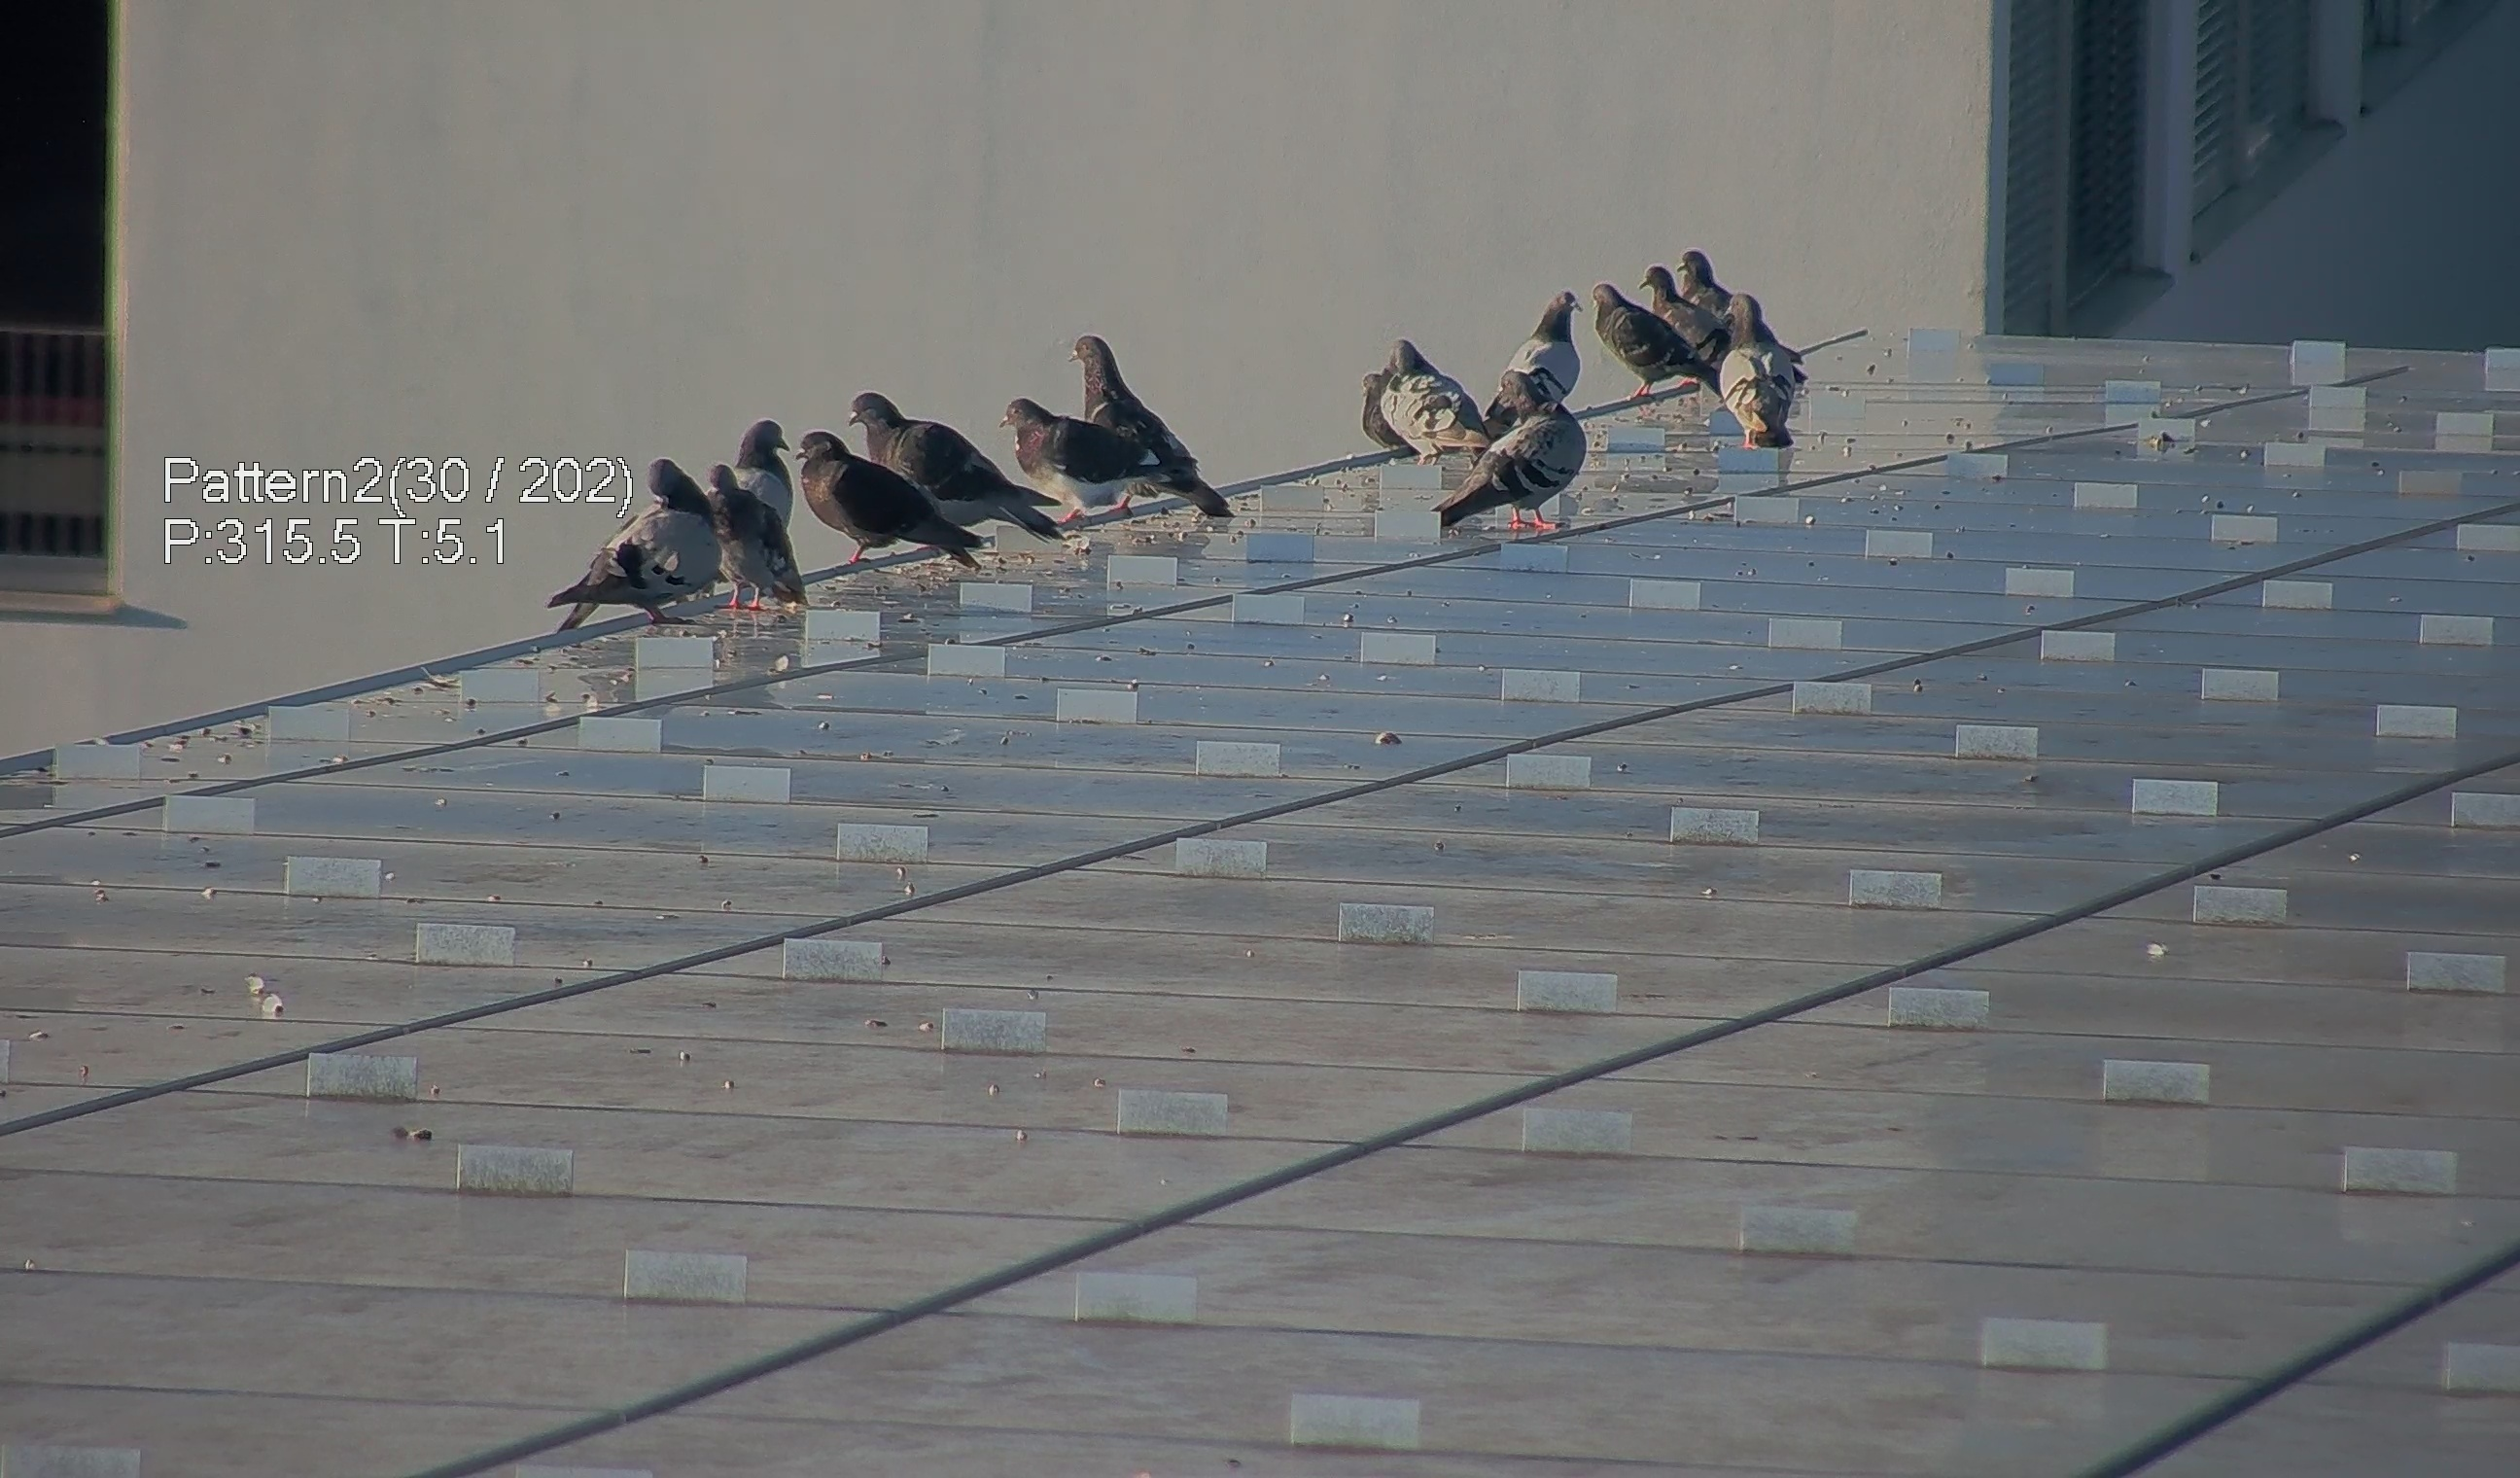Pigeon: (851, 385, 1062, 544), (554, 454, 728, 639), (790, 428, 988, 581), (1442, 371, 1588, 540), (1008, 389, 1166, 516), (1071, 329, 1208, 473), (1586, 274, 1713, 396), (705, 463, 795, 625), (1380, 340, 1491, 465), (1713, 285, 1795, 450), (1491, 283, 1584, 412), (723, 412, 797, 516), (1650, 245, 1725, 320)
